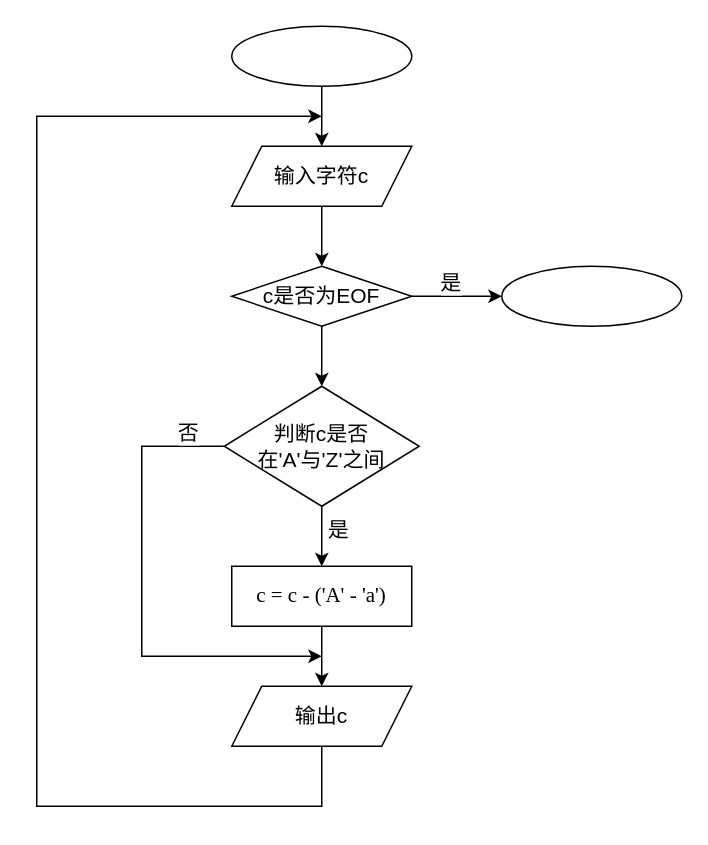
Some shapes in this 708 by 845 pixel diagram are drawn without their labels. The centre of each missing label's shape, as x and y in pixels:
"程序开始" goes at point (321, 55).
"程序结束" goes at point (591, 295).
